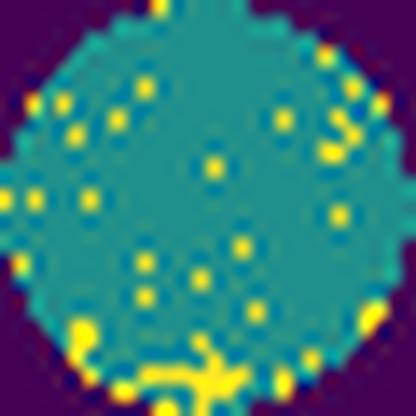Scratch: (106, 327, 256, 416)
